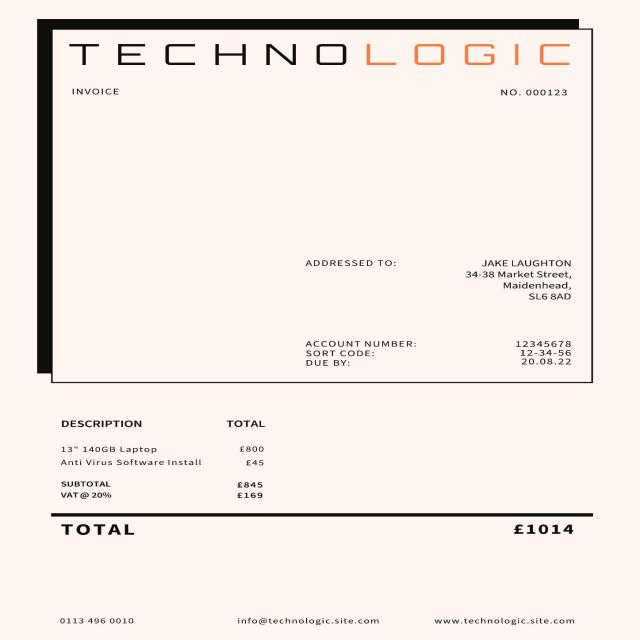paragraph: (62, 37, 589, 72), (288, 251, 586, 310), (287, 326, 587, 372), (70, 81, 580, 108), (45, 414, 274, 472), (44, 521, 596, 541), (44, 480, 274, 502), (230, 612, 383, 630), (426, 610, 592, 626), (50, 612, 144, 632)
